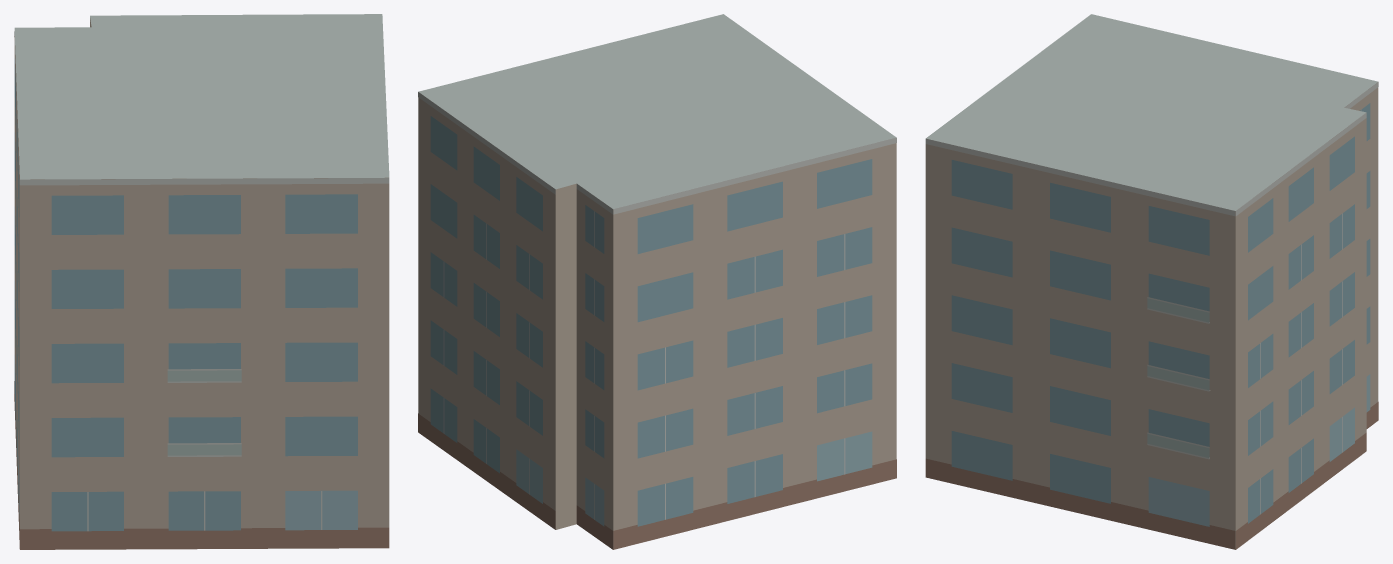
File: survey-upis-32961215.glb
3 renders of one model, left to right at view 1: azimuth 30°, elevation 25°; view 2: azimuth 150°, elevation 25°; view 3: azimuth 270°, elevation 25°, orthographic. The views are drawn at different scales.
Parts seen in each view (by area): view 1: survey-upis-32961215.tmp; view 2: survey-upis-32961215.tmp; view 3: survey-upis-32961215.tmp.
Boxes of the visible parts, x1,y1,x2,y2 form: survey-upis-32961215.tmp: (14,14,389,549); survey-upis-32961215.tmp: (418,14,896,549); survey-upis-32961215.tmp: (925,14,1378,549).
Size of the model in its own units: 19.03 by 15.25 by 18.48.
